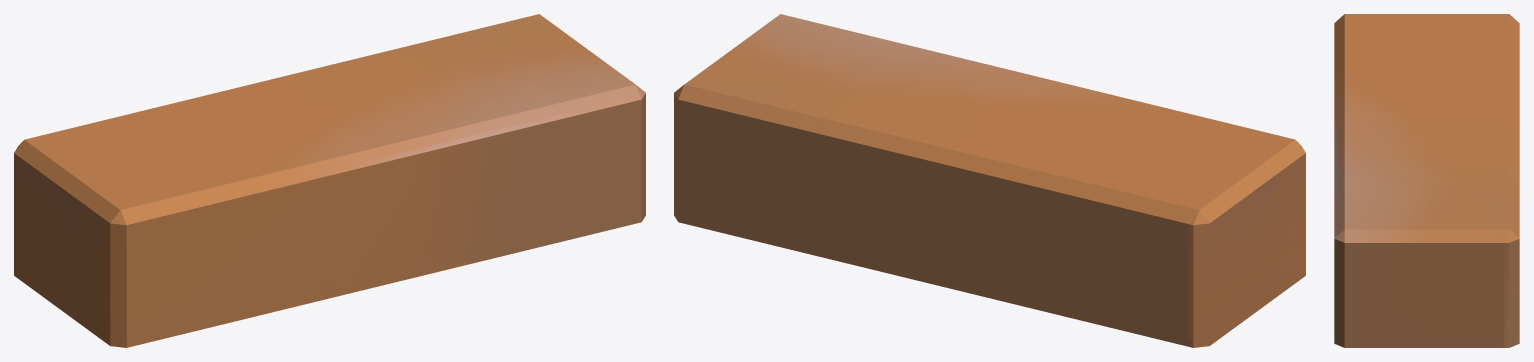
The model's file is button_small.glb.
3 views of the same model, side by side, from view 1: azimuth 30°, elevation 25°; view 2: azimuth 150°, elevation 25°; view 3: azimuth 270°, elevation 25° (orthographic). The views are drawn at different scales.
Parts seen in each view (by area): view 1: Button_Small; view 2: Button_Small; view 3: Button_Small.
Part boxes in pixels (x1,y1,x2,y2): Button_Small: (14,14,645,347); Button_Small: (674,14,1305,347); Button_Small: (1334,14,1519,347).
Bounding box in the file's own units: 4.04 × 0.9611 × 1.41.
Materials: 1 (1 with a texture image).
